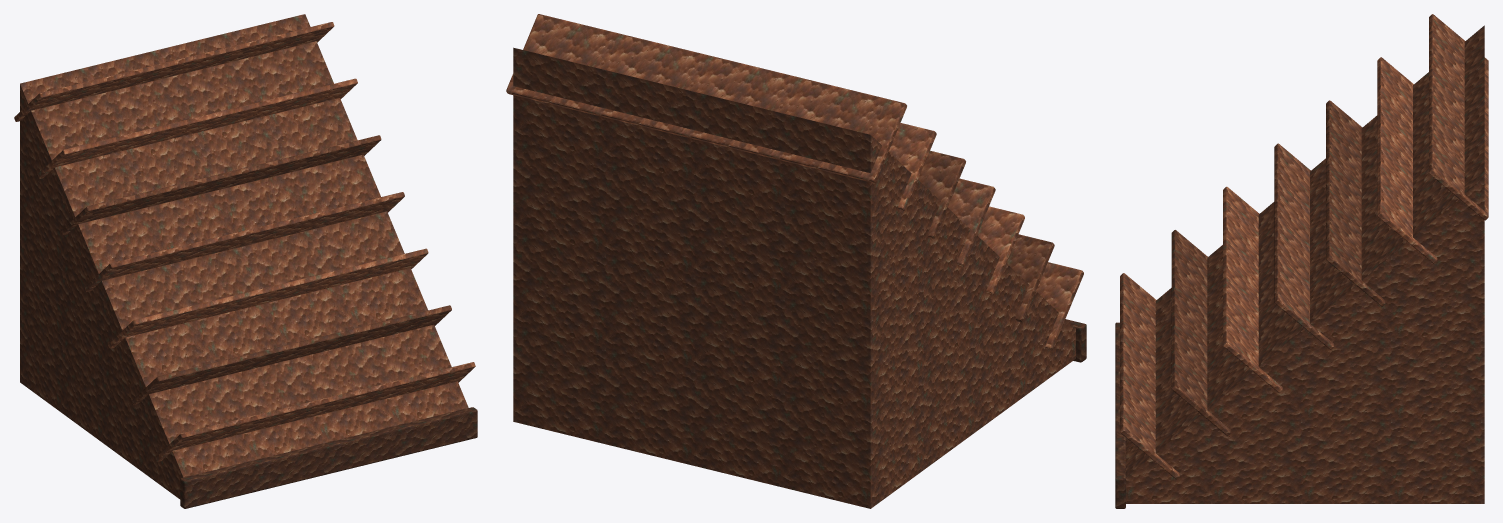
Rendered from roof_45__copper_ingot.glb.
The picture shows the model from 3 angles, left to right: view 1: azimuth 30°, elevation 25°; view 2: azimuth 150°, elevation 25°; view 3: azimuth 270°, elevation 25°; orthographic projection. The views are drawn at different scales.
Visible parts, largest first — view 1: model; view 2: model; view 3: model.
Part boxes in pixels (left/top/right/bottom): model: left=14, top=14, right=477, bottom=508; model: left=506, top=14, right=1086, bottom=508; model: left=1115, top=14, right=1488, bottom=508.
Size of the model in its own units: 2.06 by 2.08 by 2.07.
Materials: 4 (4 with a texture image).
